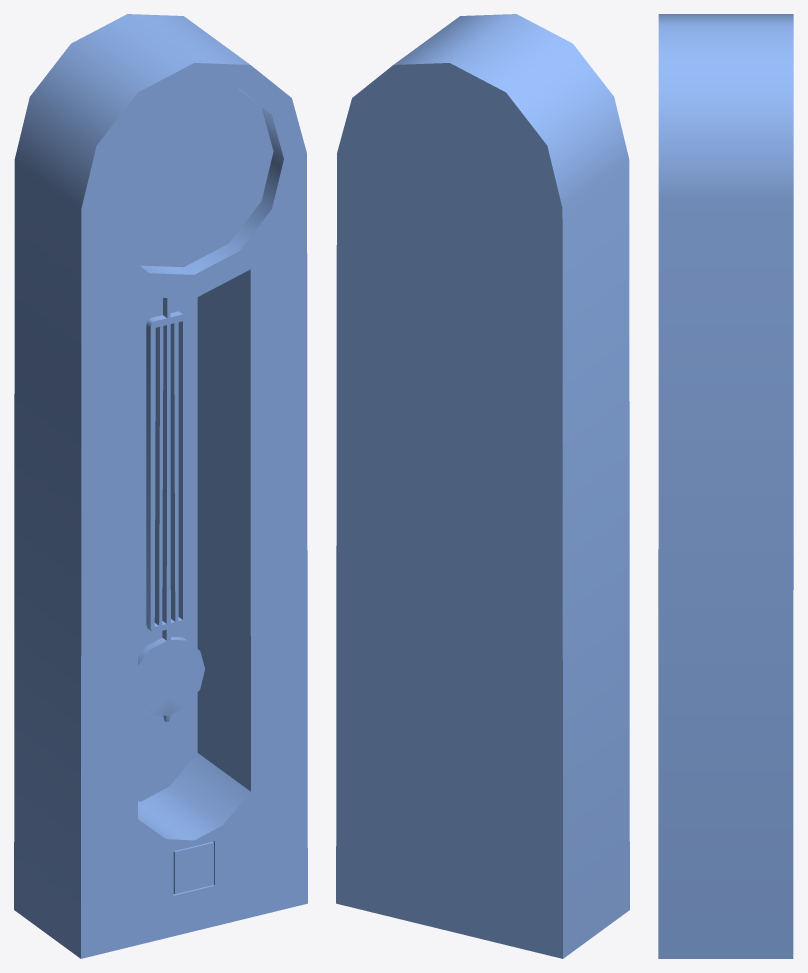
File: Clock_Grandfather.FBX
3 renders of one model, left to right at view 1: azimuth 30°, elevation 25°; view 2: azimuth 150°, elevation 25°; view 3: azimuth 270°, elevation 25°, orthographic.
Visible parts, largest first — view 1: Clock_2; view 2: Clock_2; view 3: Clock_2.
Boxes of the visible parts, <box> form: Clock_2: <box>14,14,307,958</box>; Clock_2: <box>336,14,629,958</box>; Clock_2: <box>658,14,793,958</box>.
Bounding box in the file's own units: 1.06 × 3.87 × 0.5392.
